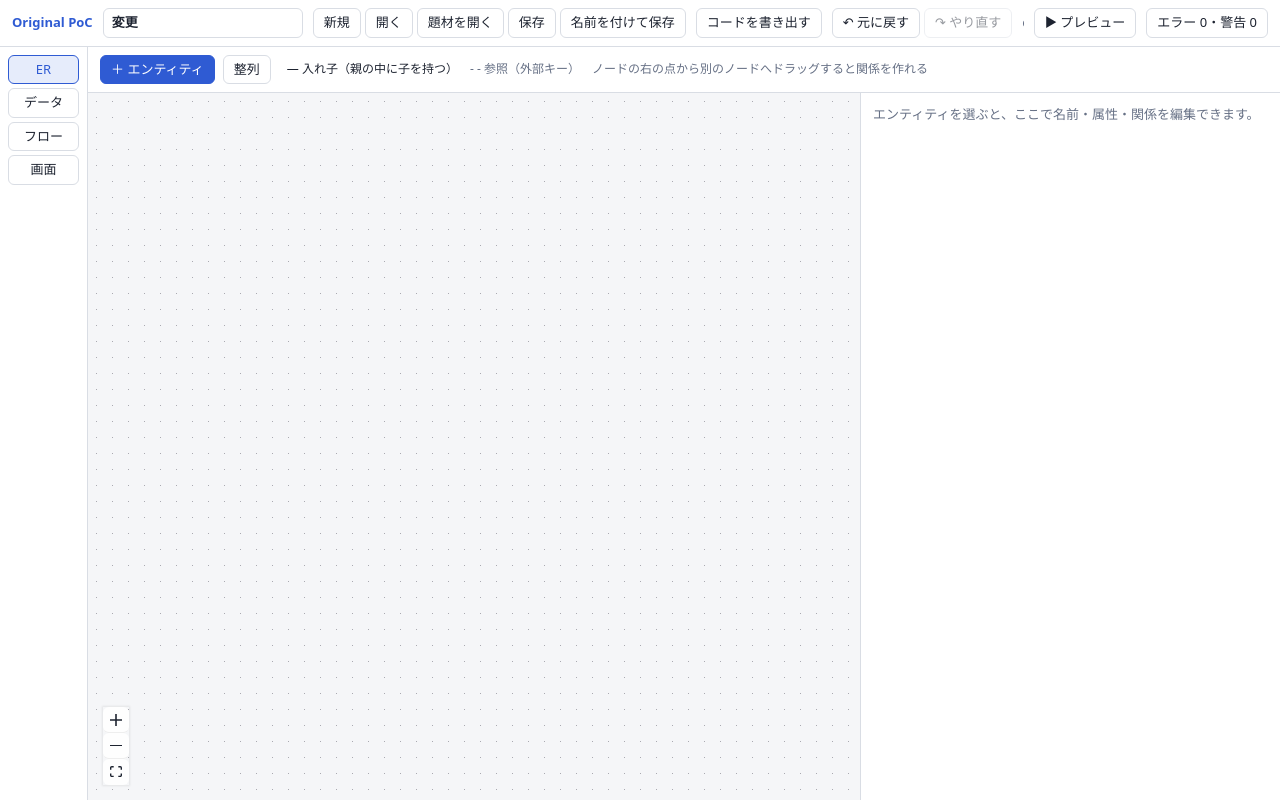
App › 未保存の変更があると、新規作成の前に確かめる
Click the button "新規".
click(337, 23)  # box [313,8,361,38]
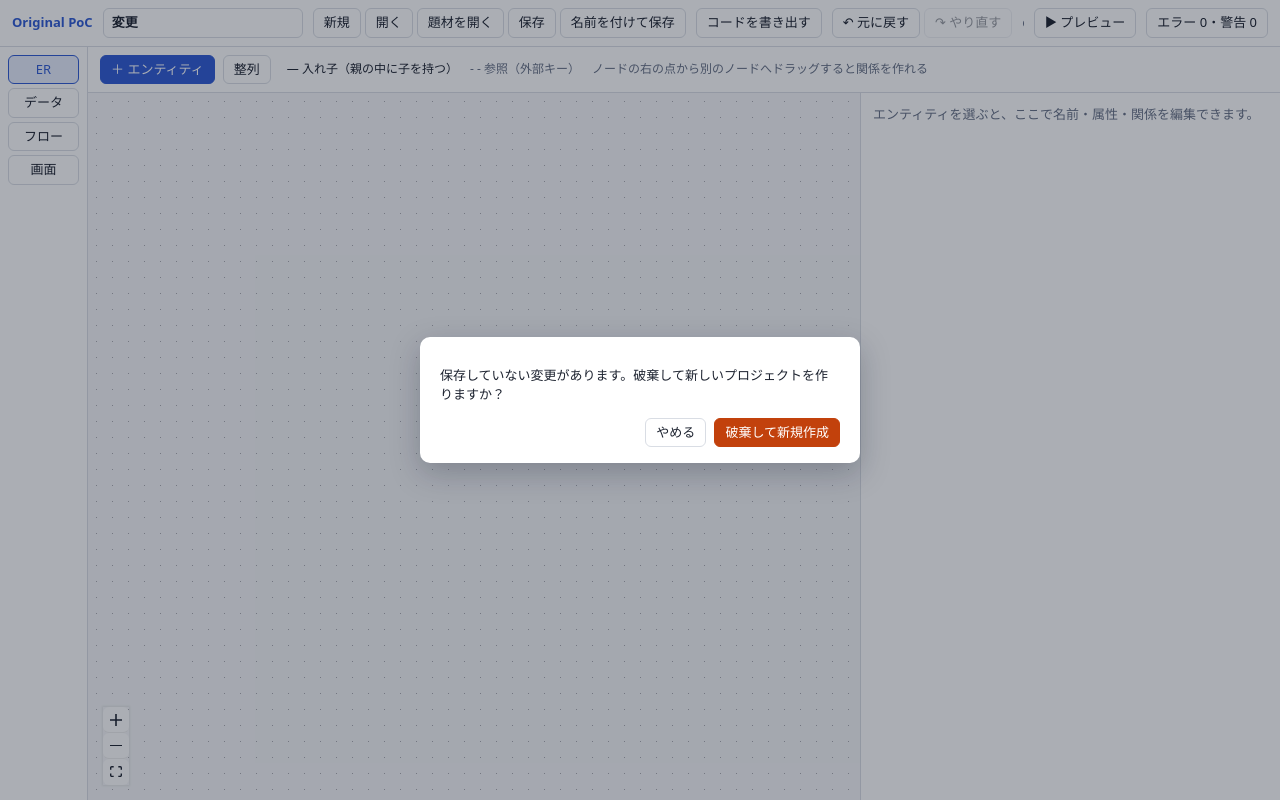
Click the button "破棄して新規作成".
click(777, 433)  # box [714,418,840,447]
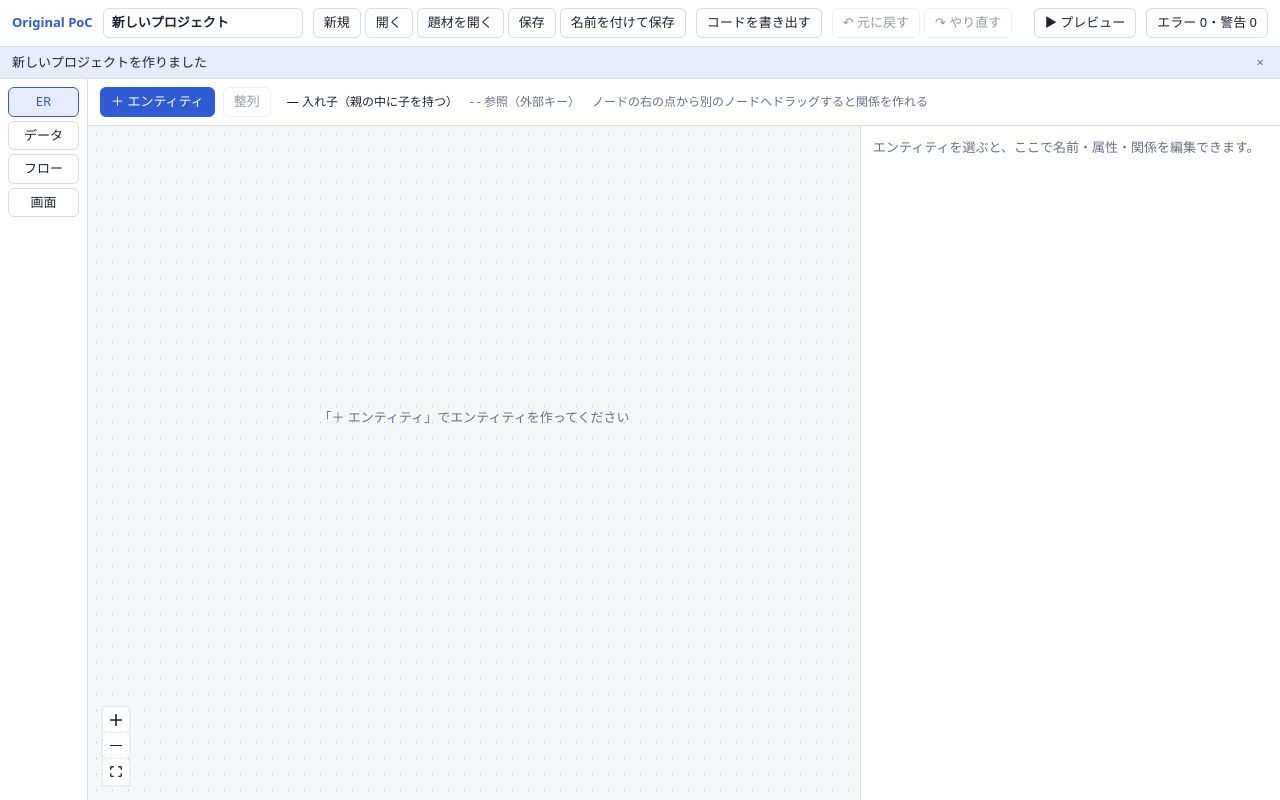
Check: the text "新しいプロジェクトを作りました" is shown, box [12,52,207,70]
